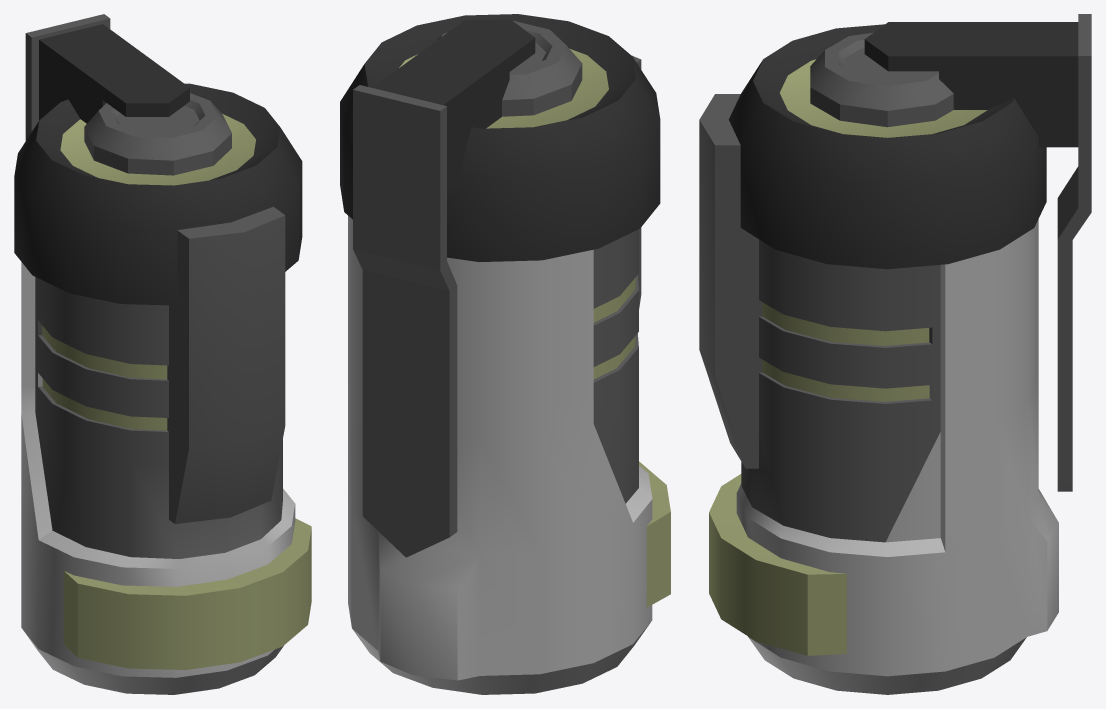
The model's file is grenade.glb.
3 renders of one model, left to right at view 1: azimuth 30°, elevation 25°; view 2: azimuth 150°, elevation 25°; view 3: azimuth 270°, elevation 25°, orthographic. The views are drawn at different scales.
Parts seen in each view (by area): view 1: Cylinder.013; view 2: Cylinder.013; view 3: Cylinder.013.
Part boxes in pixels (x1,y1,x2,y2): Cylinder.013: (14,14,311,694); Cylinder.013: (340,14,670,694); Cylinder.013: (699,14,1091,694).
Bounding box in the file's own units: 0.1621 × 0.3398 × 0.2.
